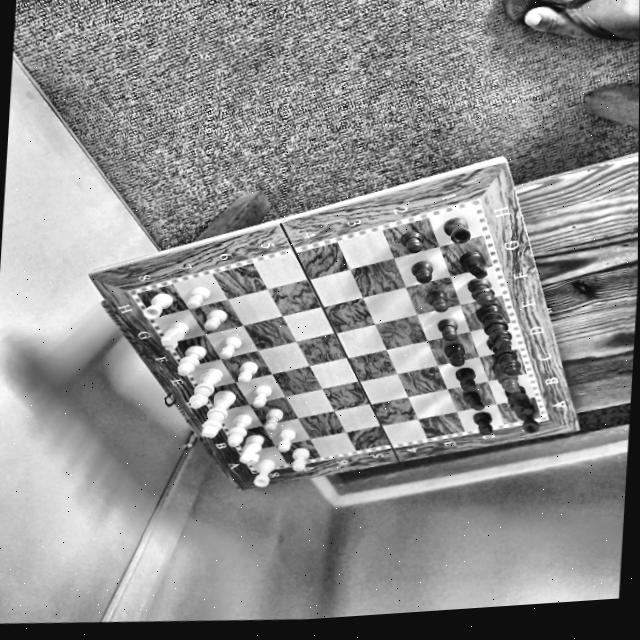black-bishop: (488, 352, 523, 396), (463, 275, 499, 311)
black-king: (471, 300, 517, 354)
black-knight: (499, 380, 536, 418), (455, 248, 491, 282)
black-pawn: (421, 287, 453, 317), (397, 226, 426, 257), (451, 365, 481, 394), (409, 258, 436, 287), (433, 315, 460, 344), (459, 389, 486, 416), (442, 341, 468, 369), (472, 410, 497, 438)
black-queen: (483, 330, 523, 379)
black-rook: (439, 213, 475, 247), (508, 402, 542, 436)
white-bishop: (185, 363, 226, 413), (172, 341, 209, 379), (222, 410, 256, 451)
white-king: (196, 386, 238, 440)
white-knight: (153, 318, 192, 355), (233, 431, 269, 468)
white-pawn: (198, 304, 231, 335), (183, 282, 212, 313), (215, 333, 245, 362), (247, 383, 275, 410), (234, 359, 261, 386), (261, 406, 286, 433), (288, 446, 313, 473), (274, 427, 297, 454)
white-rook: (137, 288, 177, 322), (250, 456, 276, 491)
